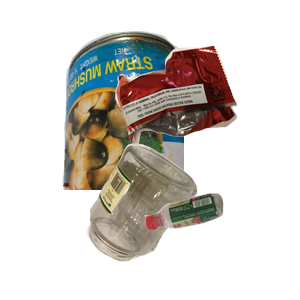glass: (85, 141, 275, 300)
metal: (60, 28, 300, 208)
plastic: (142, 191, 300, 300)
trash: (113, 43, 300, 181)
